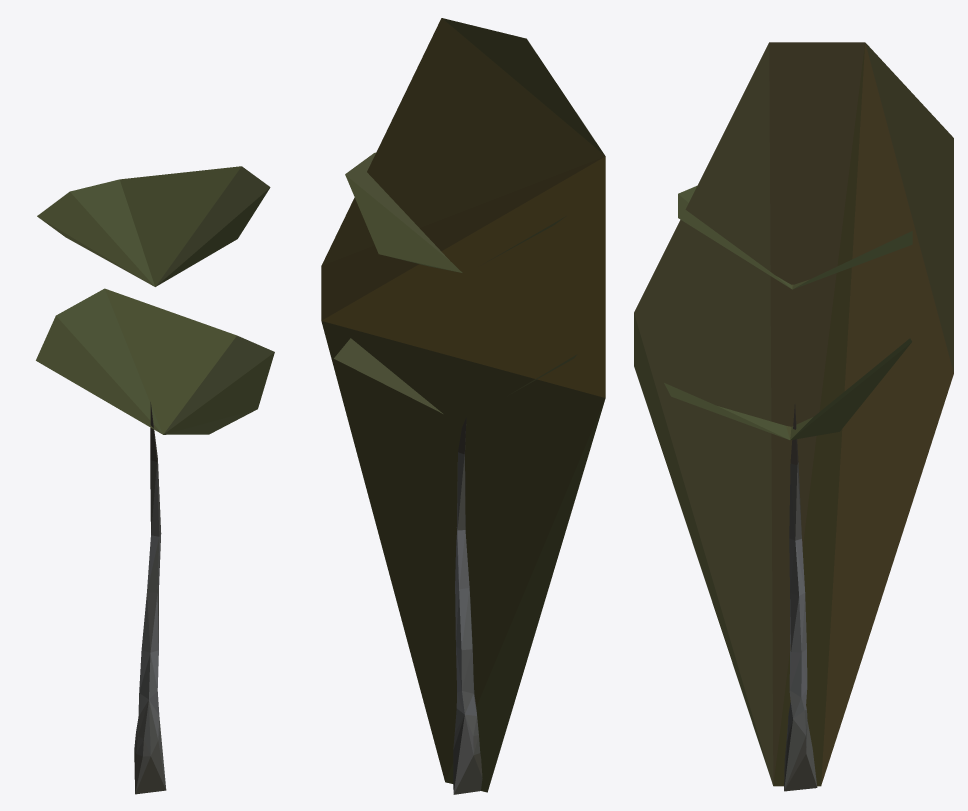
Rendered from nadel_0.glb.
3 views of the same model, side by side, from view 1: azimuth 30°, elevation 25°; view 2: azimuth 150°, elevation 25°; view 3: azimuth 270°, elevation 25° (orthographic). The views are drawn at different scales.
Visible parts, largest first — view 1: rinde; view 2: rinde; view 3: rinde.
Part boxes in pixels (bbox=[...]): rinde: bbox=[36, 166, 274, 794]; rinde: bbox=[321, 18, 605, 794]; rinde: bbox=[634, 42, 953, 791].
Bounding box in the file's own units: 4.29 × 11 × 4.29.
